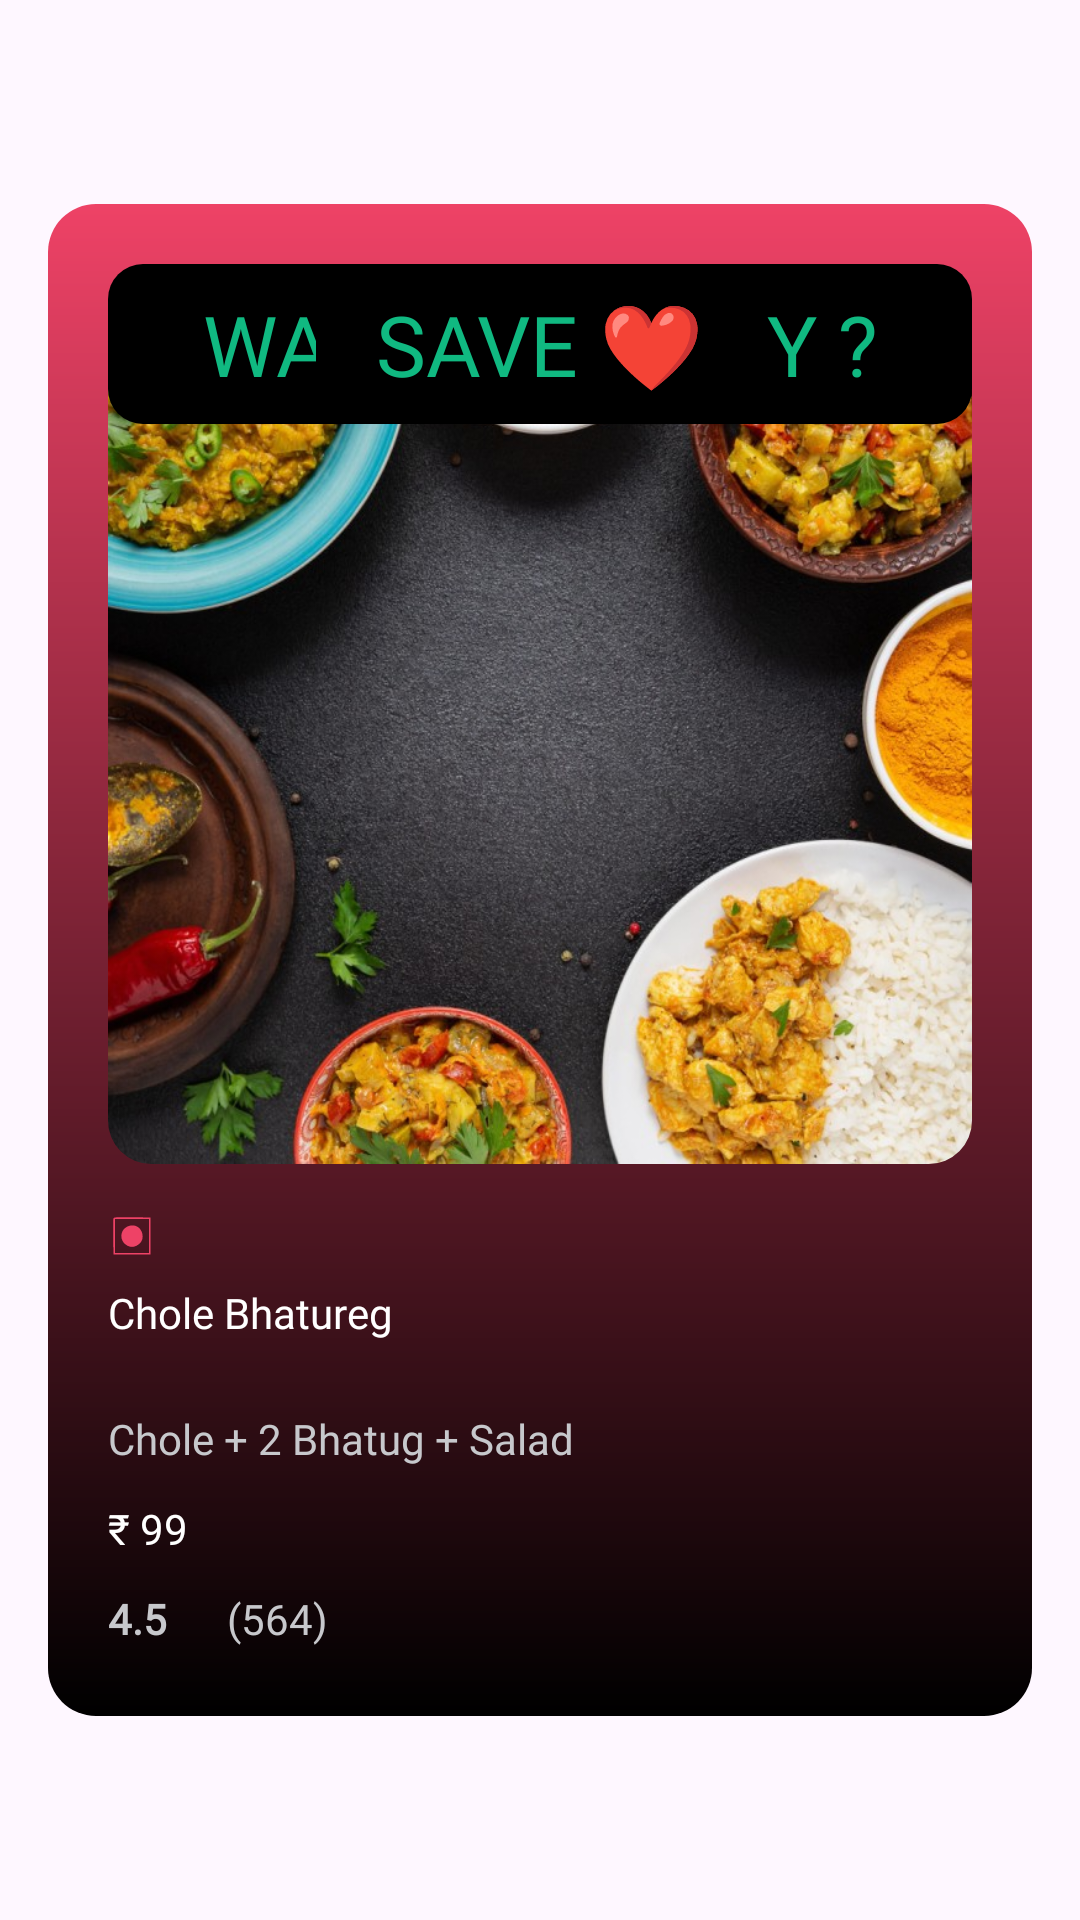

Locate icon controls on the screen. Image size 1080 × 1920, boxes as (x1, y1, x2, y2).
non veg: (113, 1217, 151, 1255)
